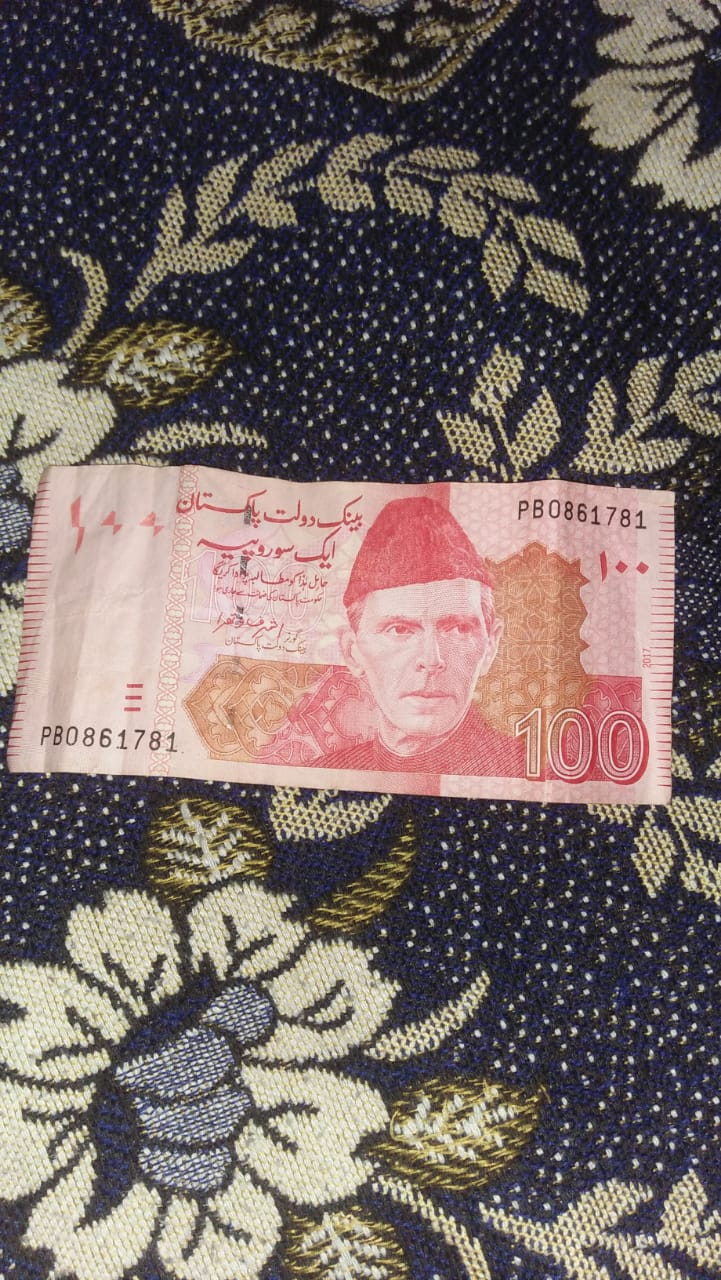100 rupee: (34, 438, 687, 863)
